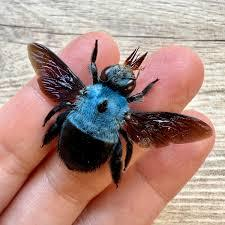Xylocopa: (23, 34, 221, 185)
